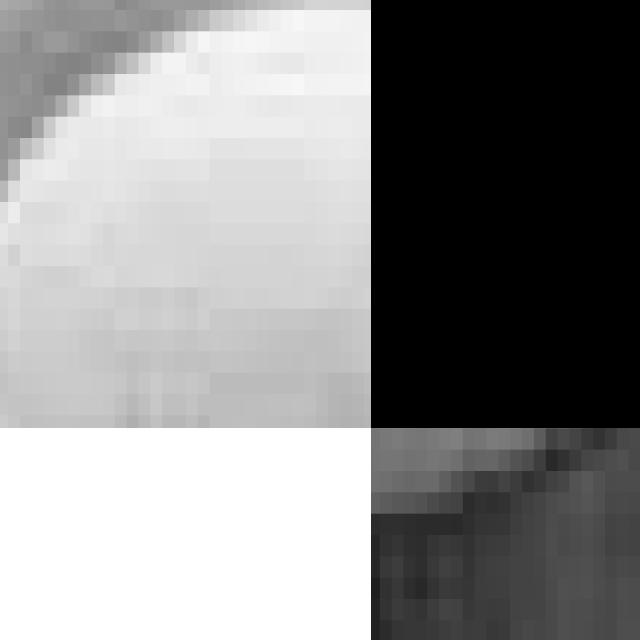spoons: (0, 0, 371, 428), (371, 428, 640, 640)
